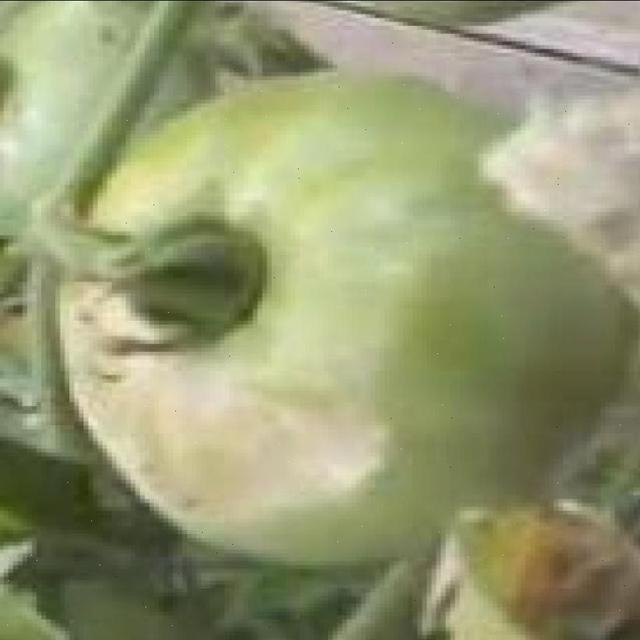Sunscald Fruit: (51, 192, 283, 353)
